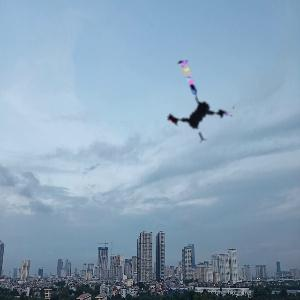drone: (145, 62, 234, 151)
